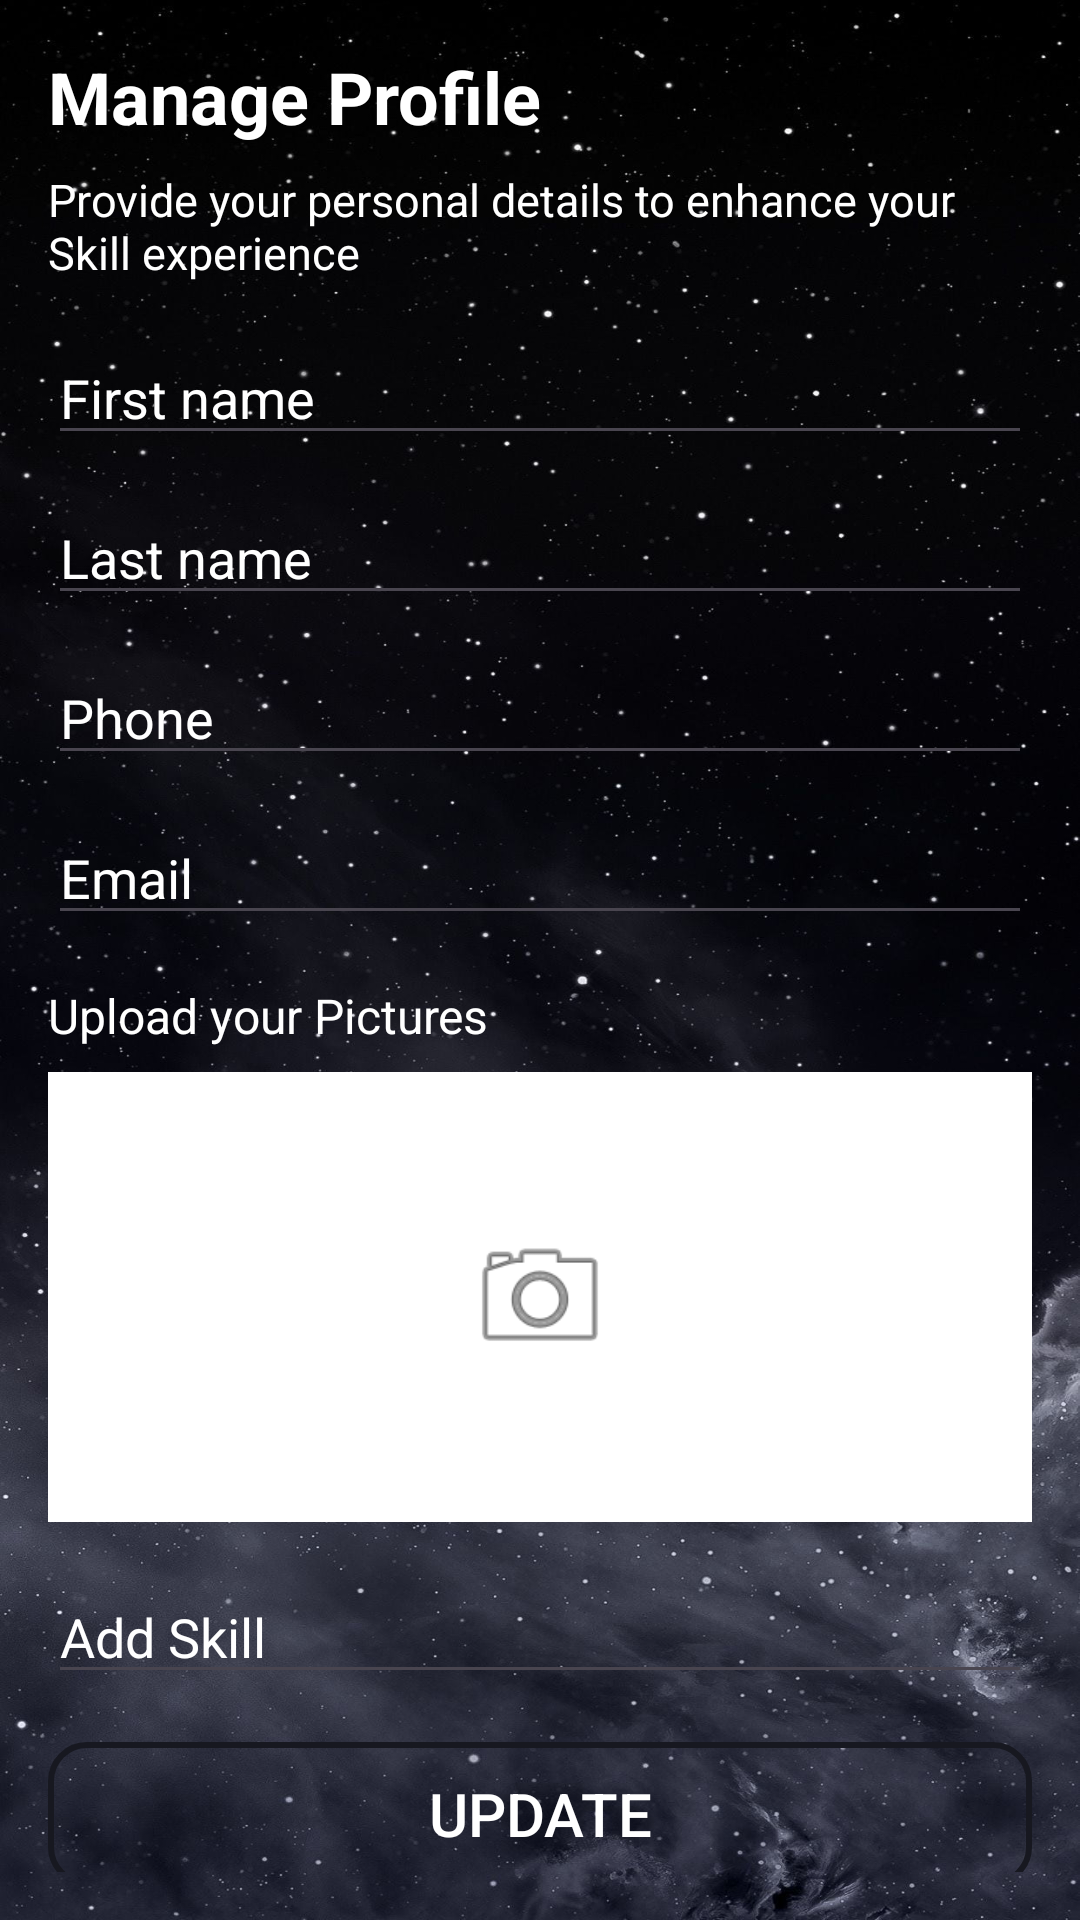

Icons on this 1080 x 1920 Android screen, each with the point to tap as (x,y):
camera: (540,1294)
